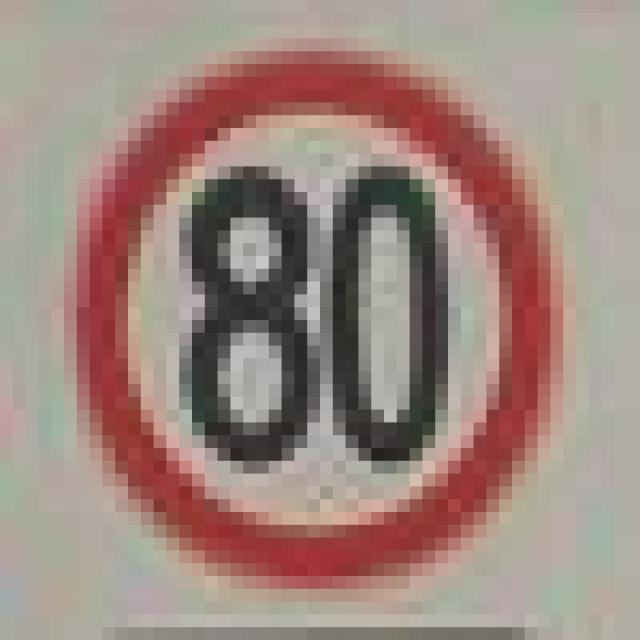speed_limit_50: (64, 26, 550, 576)
